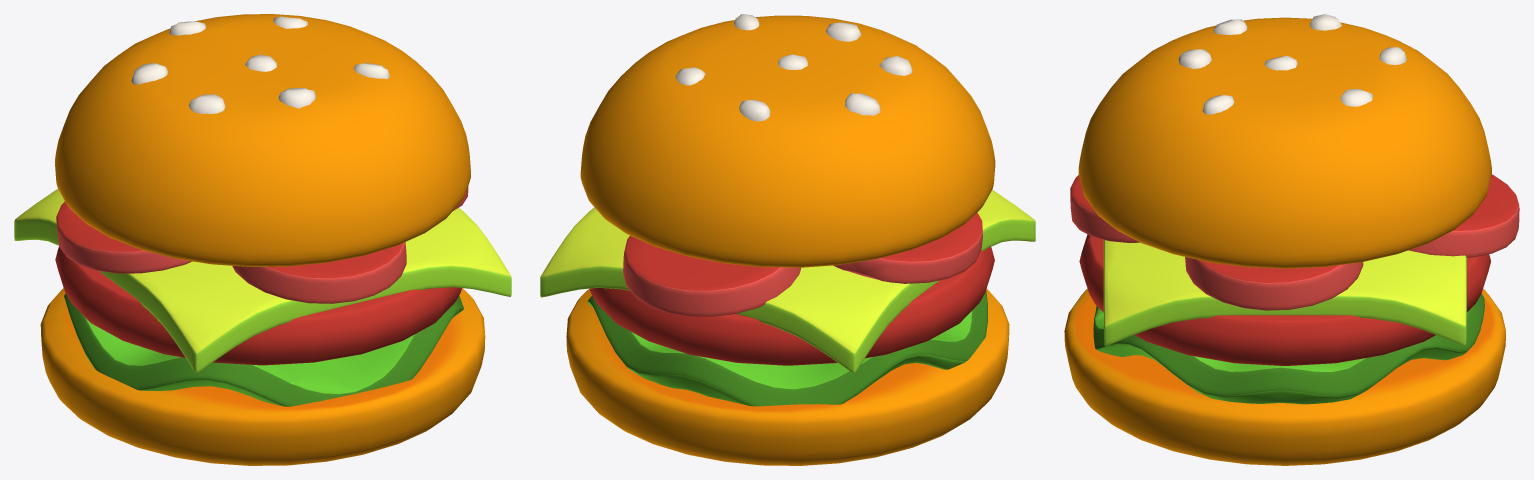
The model's file is burger.fbx.
3 renders of one model, left to right at view 1: azimuth 30°, elevation 25°; view 2: azimuth 150°, elevation 25°; view 3: azimuth 270°, elevation 25°, orthographic.
Visible parts, largest first — view 1: Burger; view 2: Burger; view 3: Burger.
Part boxes in pixels (x1,y1,x2,y2): Burger: (14,14,511,465); Burger: (540,14,1035,465); Burger: (1064,14,1519,465).
Bounding box in the file's own units: 50.7 × 41.63 × 52.24.
